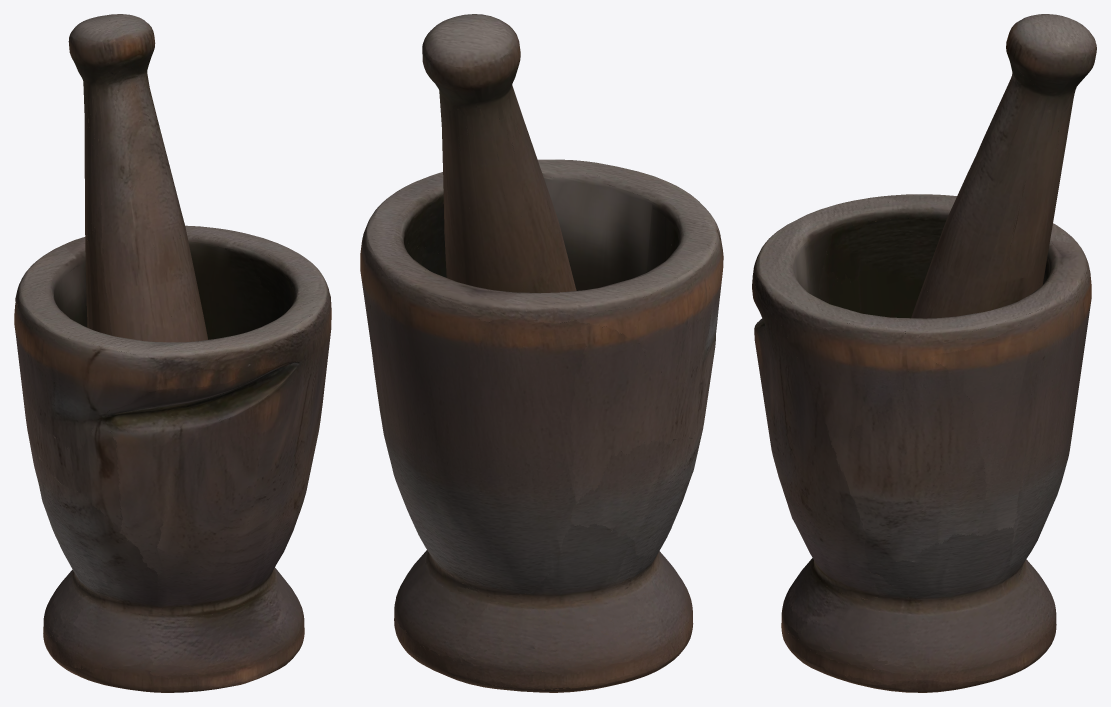
File: pilonmadera.glb
3 renders of one model, left to right at view 1: azimuth 30°, elevation 25°; view 2: azimuth 150°, elevation 25°; view 3: azimuth 270°, elevation 25°, orthographic. The views are drawn at different scales.
Parts seen in each view (by area): view 1: material; view 2: material; view 3: material.
Boxes of the visible parts, x1,y1,x2,y2 form: material: (14,14,331,692); material: (360,14,723,692); material: (752,14,1096,692).
Bounding box in the file's own units: 0.1 × 0.1999 × 0.1018.
Materials: 1 (1 with a texture image).
